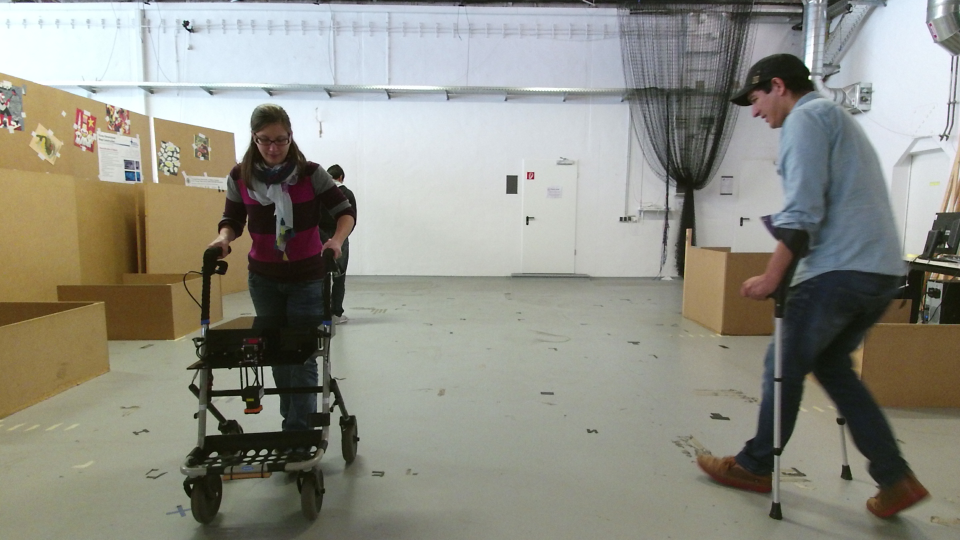crutches: (689, 47, 924, 521)
